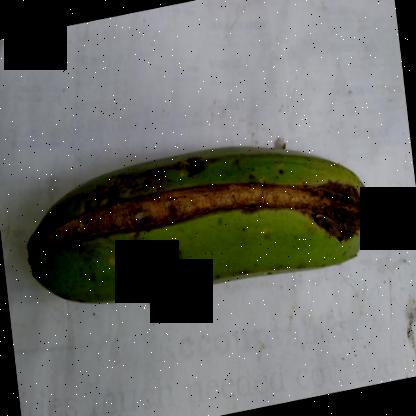rotten: (28, 133, 380, 277)
